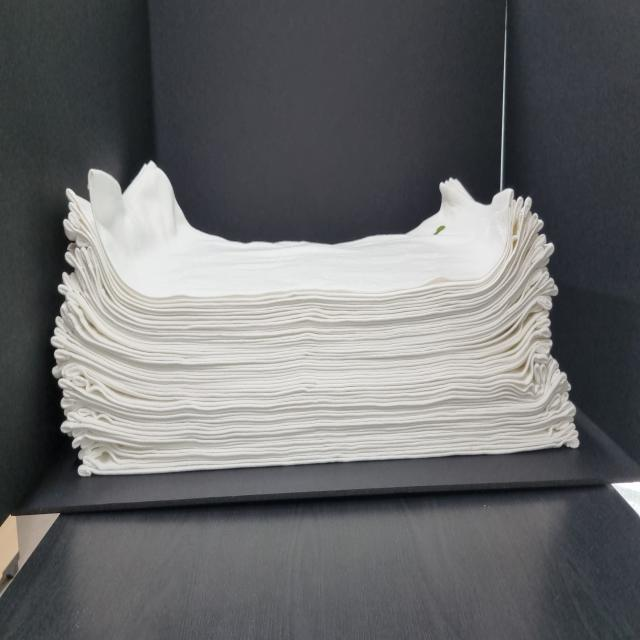50_towel_counts: (51, 124, 588, 480)
